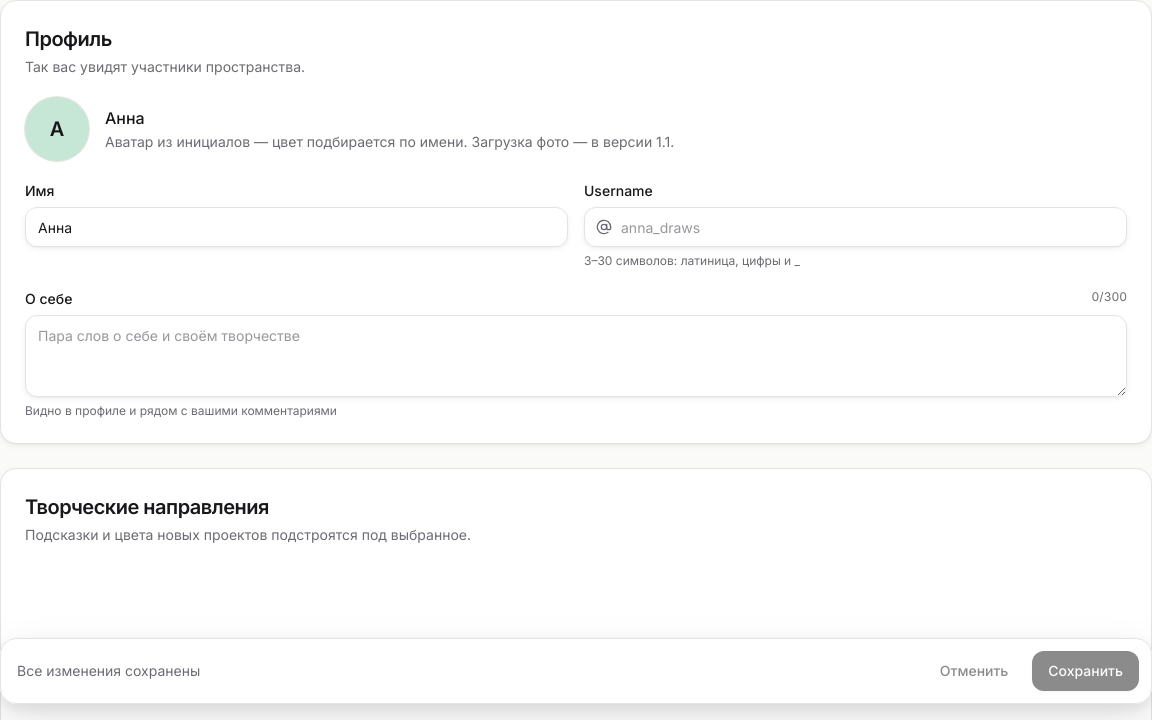
it: Настройки → Профиль › «Сохранить» неактивна, пока ничего не изменено
The image size is (1152, 720).
Expected: the button "Сохранить" is disabled, top-left (1032, 651), bottom-right (1139, 691)
Expected: the text "Все изменения сохранены" is shown, top-left (17, 662), bottom-right (200, 679)
Type " К." into the field labelled "Имя" at (296,227), box top-left (25, 207), bottom-right (568, 247)
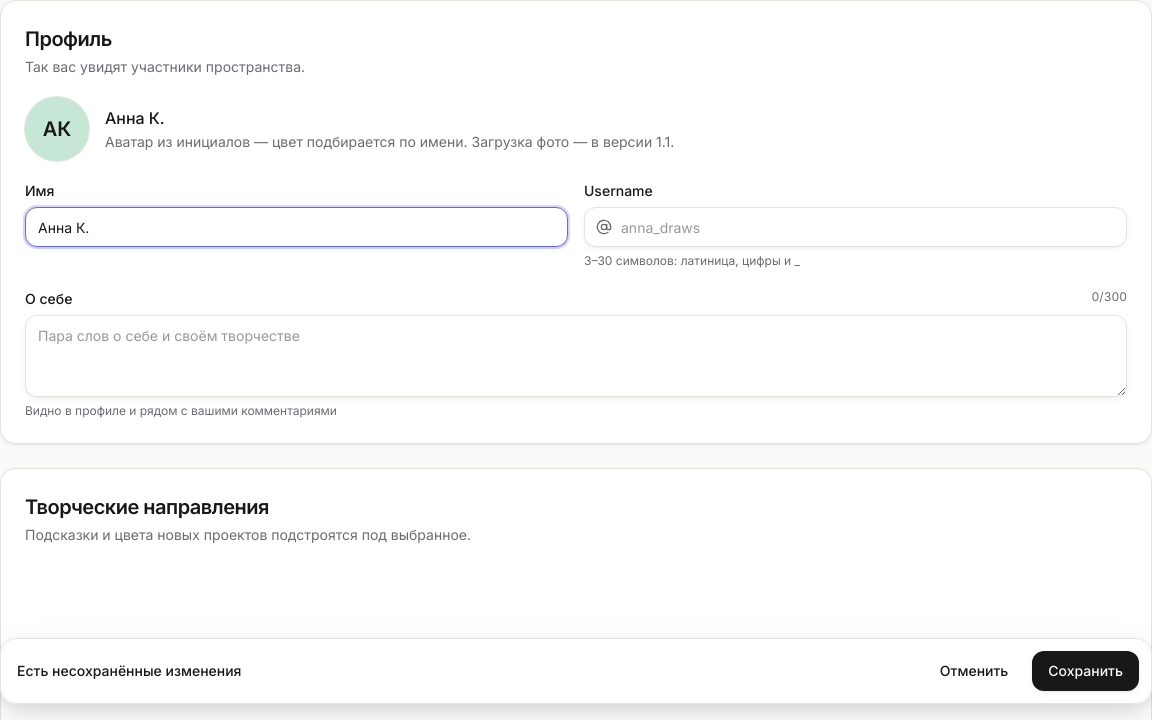
Expected: the button "Сохранить" is enabled, top-left (1032, 651), bottom-right (1139, 691)
Expected: the text "Есть несохранённые изменения" is shown, top-left (17, 662), bottom-right (241, 679)
